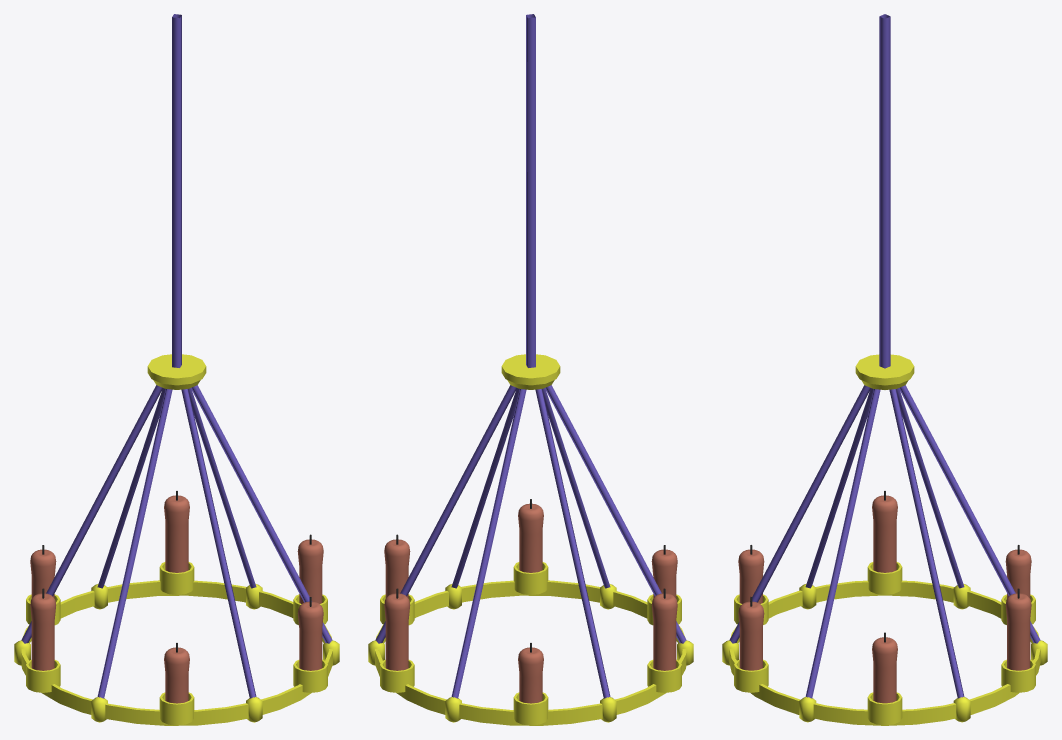
File: Candelabra_Ceiling_01.FBX
3 views of the same model, side by side, from view 1: azimuth 30°, elevation 25°; view 2: azimuth 150°, elevation 25°; view 3: azimuth 270°, elevation 25° (orthographic).
Parts seen in each view (by area): view 1: Candelabra_Ceiling_01; view 2: Candelabra_Ceiling_01; view 3: Candelabra_Ceiling_01.
Part boxes in pixels (<box>): Candelabra_Ceiling_01: <box>14,14,339,725</box>; Candelabra_Ceiling_01: <box>368,14,693,725</box>; Candelabra_Ceiling_01: <box>722,14,1047,725</box>.
Bounding box in the file's own units: 0.8895 × 1.86 × 0.8434.
